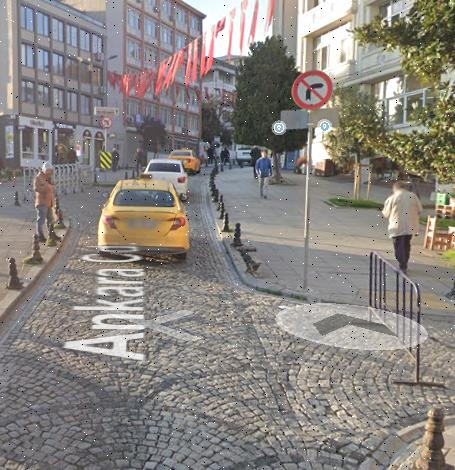leftturnsareforbidden: (100, 116, 113, 128)
rightturnsareforbidden: (293, 69, 331, 110)
